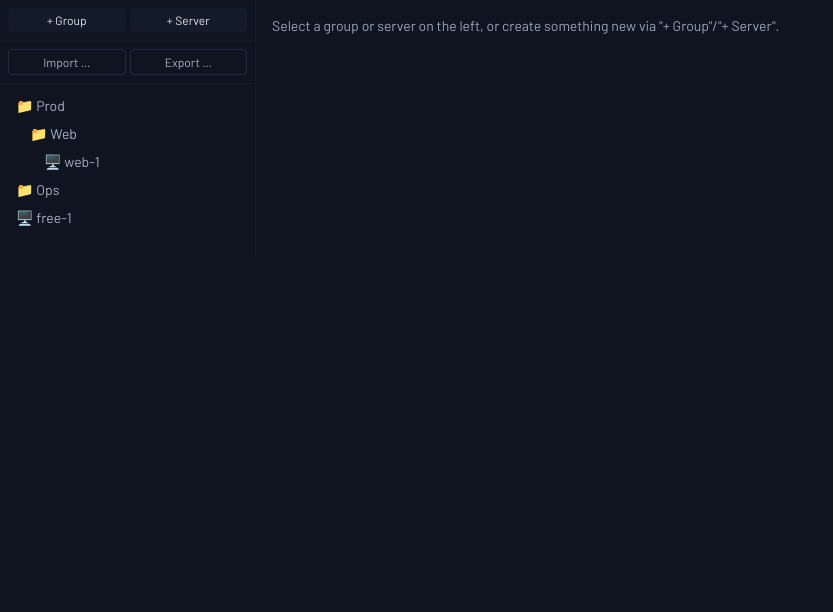
ManagementView: moving the open item keeps unsaved edits (issue #63) › a cycle-rejected folder move leaves the form unchanged and shows the translated error
Expected: the button "🖥️ web-1" is shown, [8, 148, 247, 176]
Click the button "📁 Prod".
click(128, 106)  # box [8, 92, 247, 120]
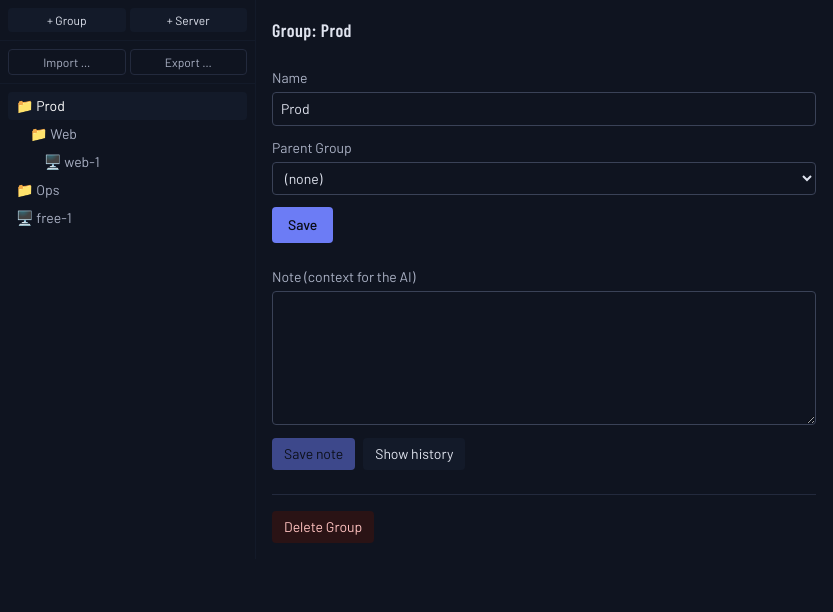
Expected: the field labelled "Name" holds "Prod"
Replace the text in the field labelled "Name" with "Prod renamed" at coordinates (544, 109), box [272, 92, 816, 126]
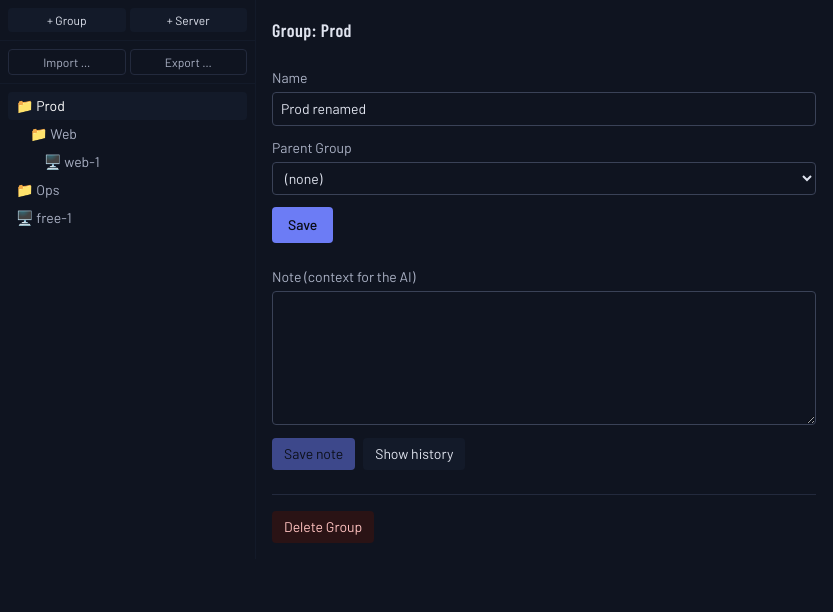
Select "Ops" in the dropdown at coordinates (544, 178), box [272, 162, 816, 195]
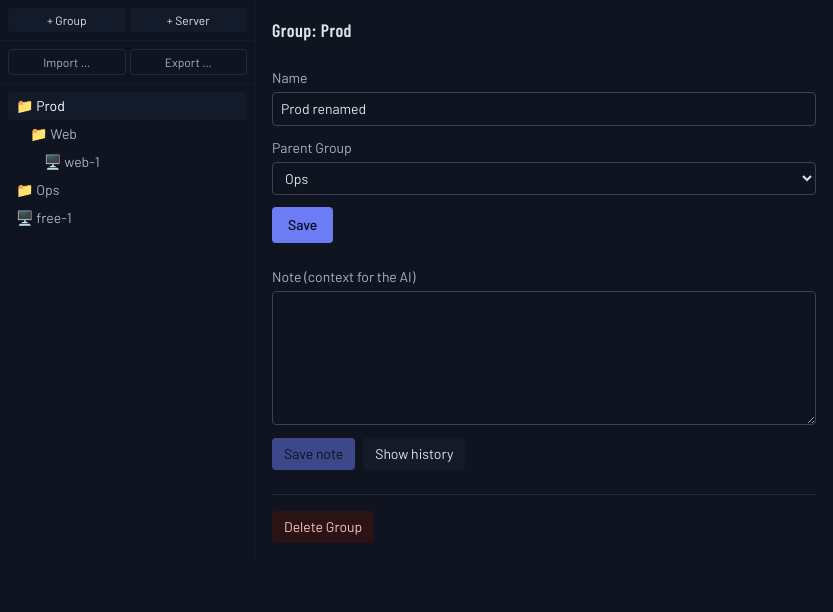
Click the button "📁 Prod".
click(128, 106)  # box [8, 92, 247, 120]
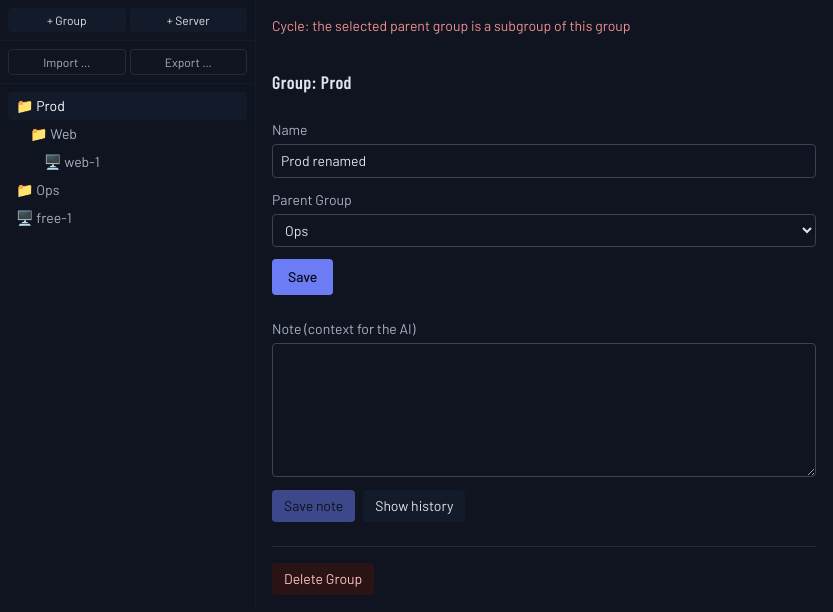
Expected: the text "Cycle: the selected parent group is a subgroup of this group" is shown, [272, 17, 630, 34]
